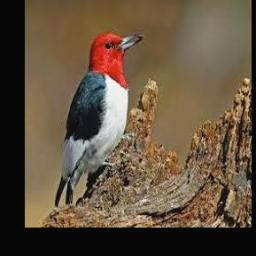Woodpecker: (54, 32, 143, 208)
